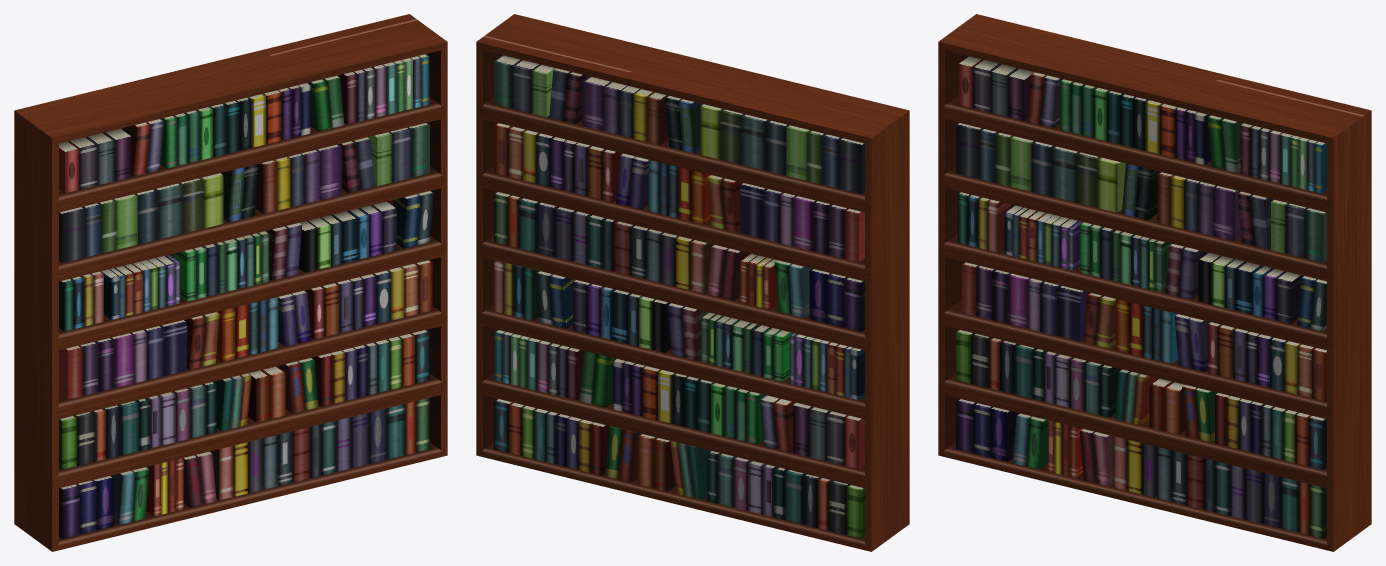
Rendered from LibraryBookshelf01.FBX.
3 renders of one model, left to right at view 1: azimuth 30°, elevation 25°; view 2: azimuth 150°, elevation 25°; view 3: azimuth 330°, elevation 25°, orthographic.
Parts seen in each view (by area): view 1: Bookshelf01_Books02, LibraryBookshelf01; view 2: Bookshelf01_Books01, LibraryBookshelf01; view 3: Bookshelf01_Books02, LibraryBookshelf01.
Boxes of the visible parts, bbox=[...] form: Bookshelf01_Books02: bbox=[59, 54, 433, 538]; LibraryBookshelf01: bbox=[14, 14, 447, 551]; Bookshelf01_Books01: bbox=[494, 55, 864, 538]; LibraryBookshelf01: bbox=[476, 14, 909, 551]; Bookshelf01_Books02: bbox=[956, 56, 1326, 538]; LibraryBookshelf01: bbox=[938, 14, 1371, 551].
Bounding box in the file's own units: 6 × 6 × 1.
